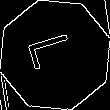L_E: (27, 33, 83, 77)
